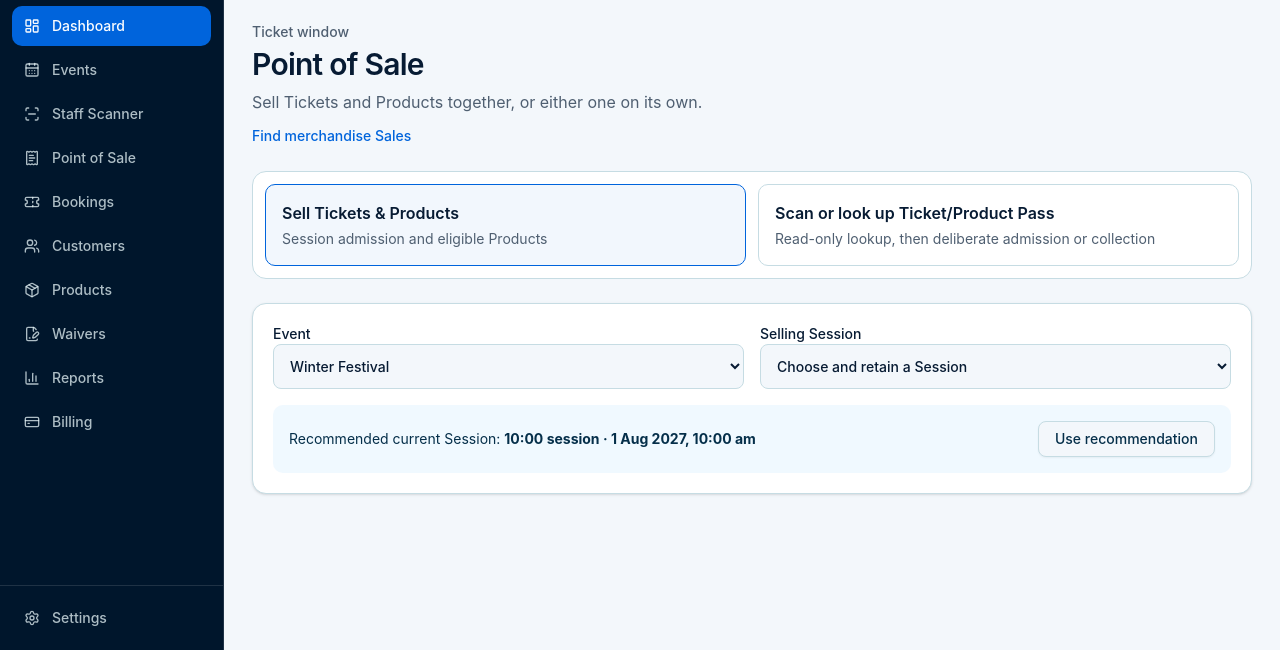
PosPage › adds an ordinary walk-up Ticket without participant name fields
Click the button "Use recommendation": (1126, 439) [1038,421,1215,457]
(page scrolled)
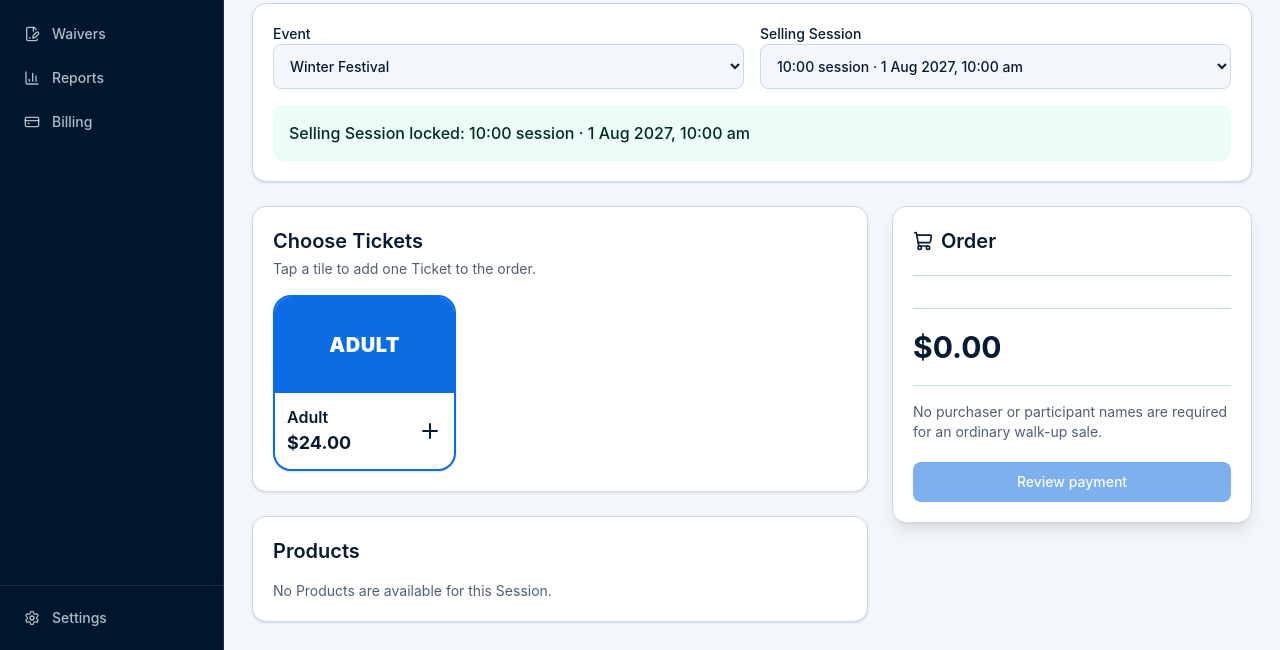
Click the button with aria-label "Add Ticket Adult": (365, 383) [273,295,456,471]
(page scrolled)
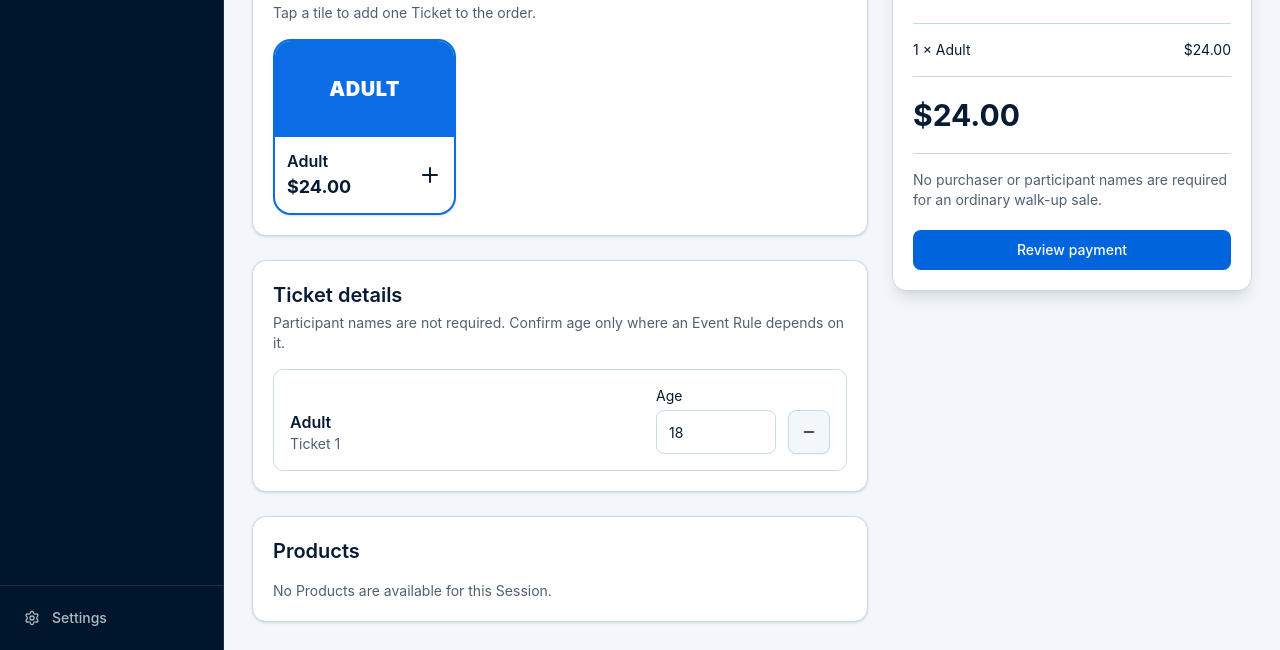
expect the text "$24.00" below "Choose Tickets" is shown: met, box [287,176,351,197]
expect the text "1 × Adult" is shown: met, box [913,40,970,60]
expect the number field labelled "Age" holds "18": met, box [656,410,776,454]
